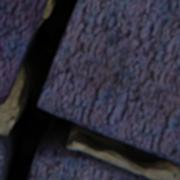brick: (38, 0, 179, 162), (0, 0, 47, 102)
broken_brick: (30, 145, 154, 179), (0, 133, 8, 173)
crack: (0, 0, 179, 179)
